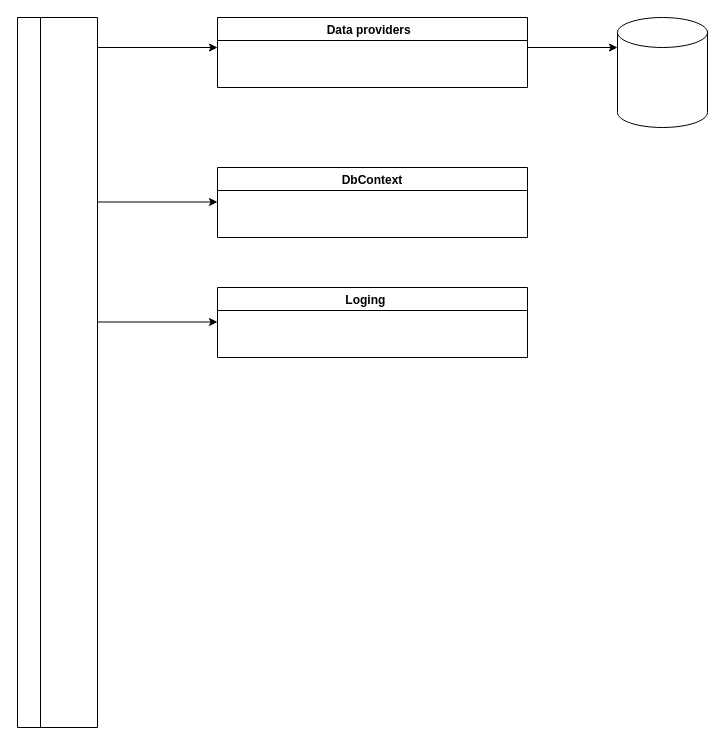
Image size: 725x745. Some labels were removed from this diagram. The shapes that lost their labels are listed below. From the top down, each one's centre as x and y in pixels, then its label:
[662,72]: Data Engines
[57,372]: Data accesss Layer
